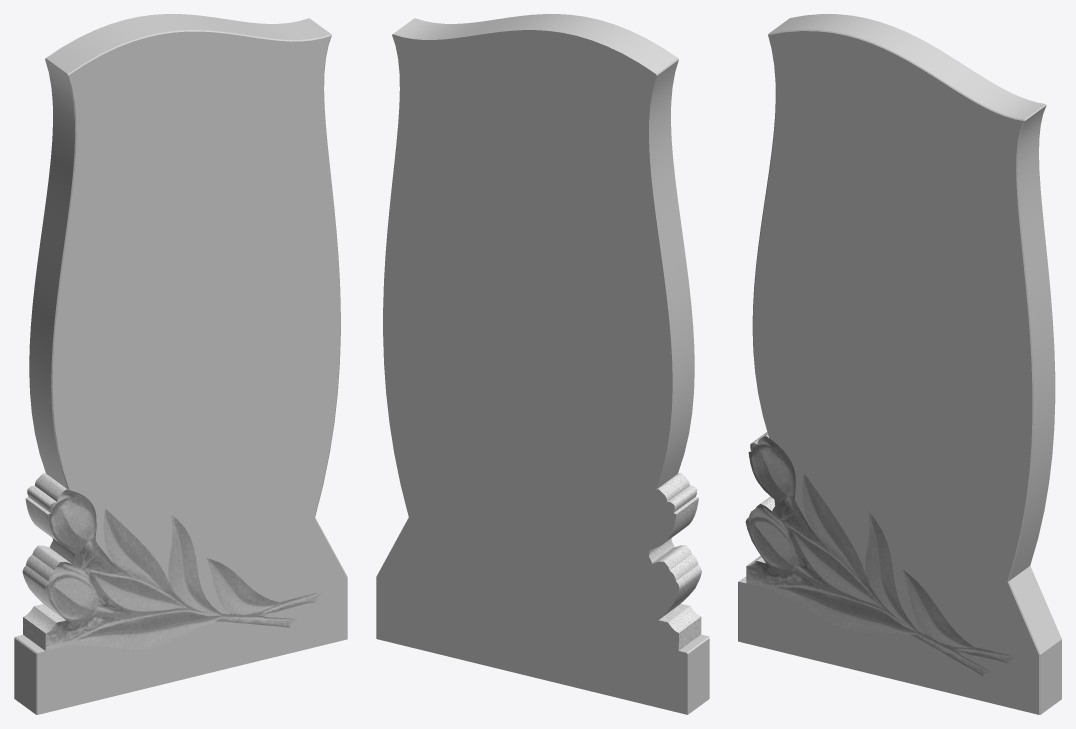
Rendered from cne3959716ad_tkf.glb.
3 views of the same model, side by side, from view 1: azimuth 30°, elevation 25°; view 2: azimuth 150°, elevation 25°; view 3: azimuth 330°, elevation 25° (orthographic). The views are drawn at different scales.
Parts seen in each view (by area): view 1: Pam-v-077-1, Pam-v-077-1_2_notexture; view 2: Pam-v-077-1, Pam-v-077-1_2_notexture; view 3: Pam-v-077-1, Pam-v-077-1_2_notexture.
Boxes of the visible parts, left/top/right/bottom form: Pam-v-077-1: left=14, top=14, right=347, bottom=714; Pam-v-077-1_2_notexture: left=22, top=473, right=322, bottom=650; Pam-v-077-1: left=376, top=14, right=709, bottom=714; Pam-v-077-1_2_notexture: left=649, top=473, right=701, bottom=650; Pam-v-077-1: left=738, top=14, right=1061, bottom=714; Pam-v-077-1_2_notexture: left=745, top=432, right=1014, bottom=675.
Size of the model in its own units: 0.4 by 0.8 by 0.05.
1 material, 1 textured.
